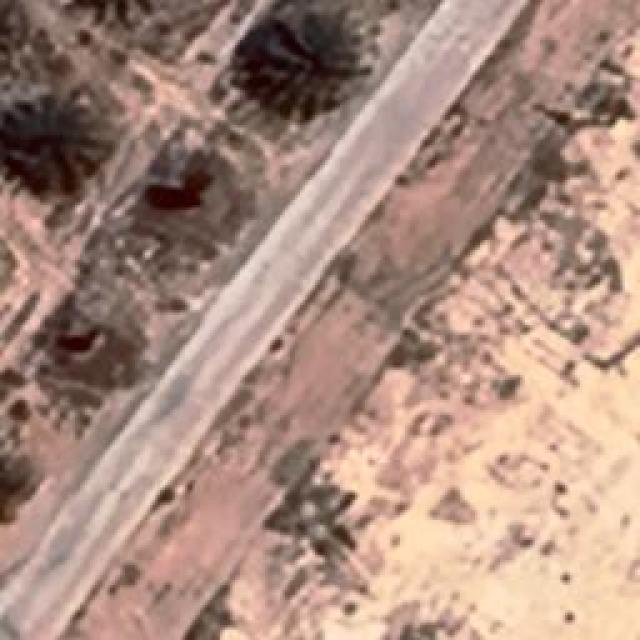PalmTree: (252, 17, 352, 115), (48, 11, 115, 139), (0, 428, 29, 536), (0, 0, 23, 62), (0, 0, 16, 62)
